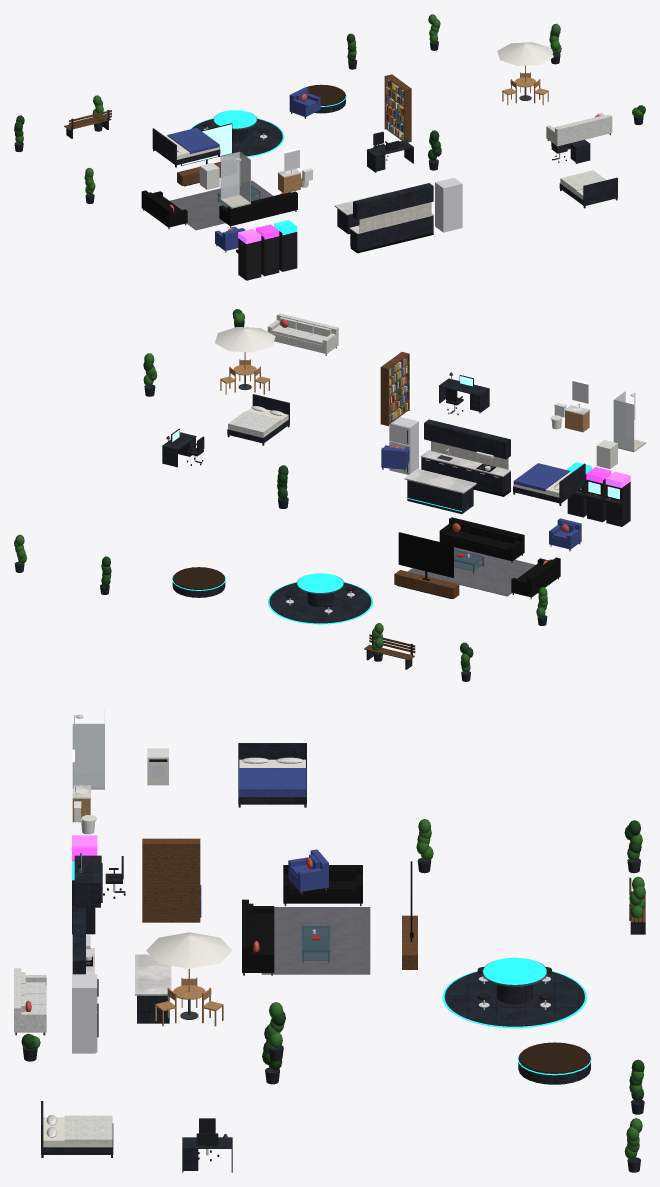
The model's file is i_villa_neon_circuit.gltf.
3 renders of one model, top to bottom at view 1: azimuth 30°, elevation 25°; view 2: azimuth 150°, elevation 25°; view 3: azimuth 270°, elevation 25°, orthographic. The views are drawn at different scales.
Visible parts, largest first — view 1: I_villa_neon_circuit; view 2: I_villa_neon_circuit; view 3: I_villa_neon_circuit.
Boxes of the visible parts, bbox=[...] form: I_villa_neon_circuit: bbox=[14, 14, 645, 280]; I_villa_neon_circuit: bbox=[14, 309, 645, 681]; I_villa_neon_circuit: bbox=[14, 710, 645, 1172].
Size of the model in its own units: 20.13 by 5.85 by 17.48.
37 materials, 10 textured.
